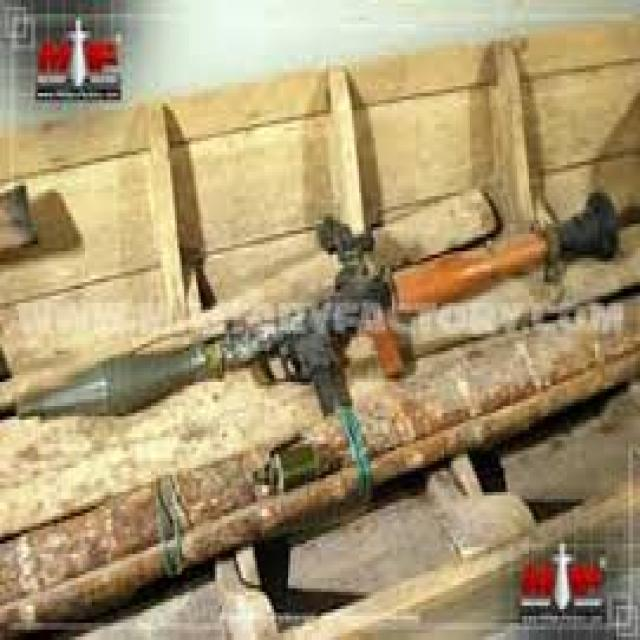Gun: (2, 187, 635, 432)
